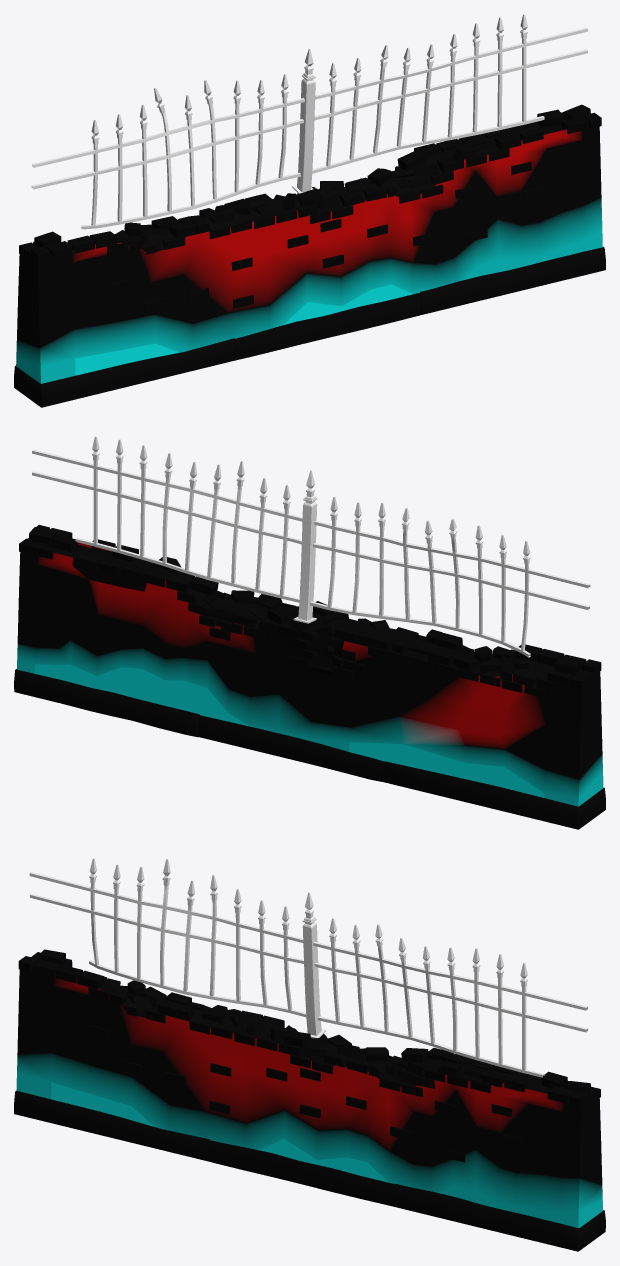
Rendered from Com_Fence3.fbx.
3 views of the same model, one above another, from view 1: azimuth 30°, elevation 25°; view 2: azimuth 150°, elevation 25°; view 3: azimuth 330°, elevation 25° (orthographic).
Parts seen in each view (by area): view 1: SM_COM_Fence03.mo; view 2: SM_COM_Fence03.mo; view 3: SM_COM_Fence03.mo.
Boxes of the visible parts, x1,y1,x2,y2 form: SM_COM_Fence03.mo: (14, 14, 605, 407); SM_COM_Fence03.mo: (14, 436, 605, 829); SM_COM_Fence03.mo: (14, 858, 605, 1251).
Bounding box in the file's own units: 821 × 390 × 74.56.
